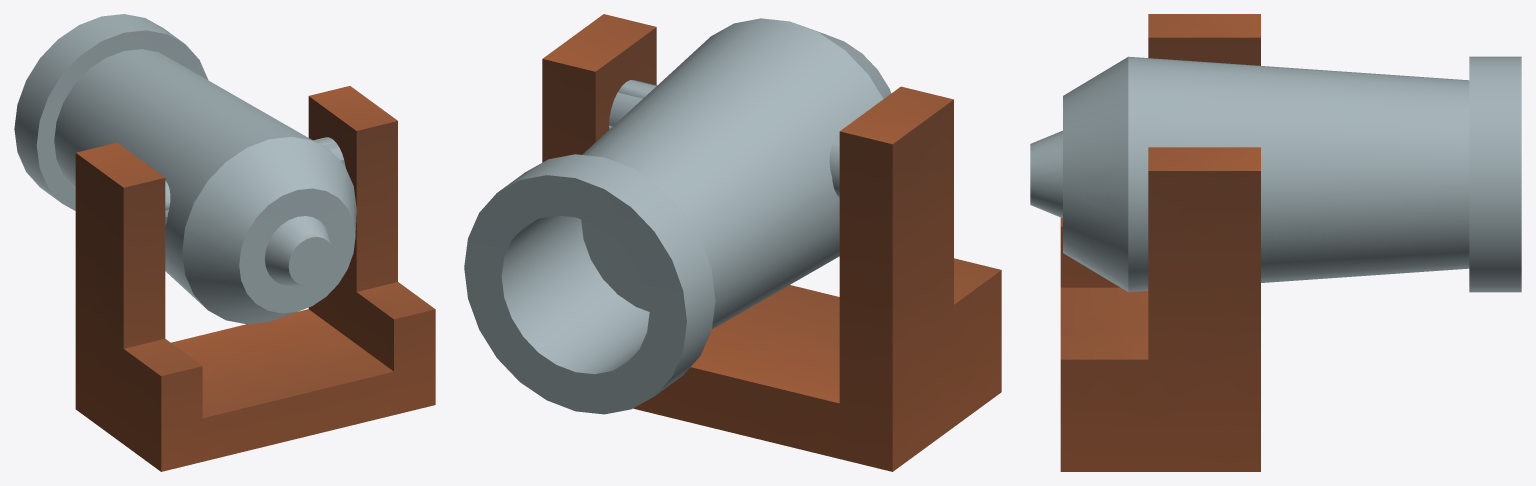
Rendered from cannon.glb.
3 renders of one model, left to right at view 1: azimuth 30°, elevation 25°; view 2: azimuth 150°, elevation 25°; view 3: azimuth 270°, elevation 25°, orthographic. The views are drawn at different scales.
Parts seen in each view (by area): view 1: cannon, barrelCannon; view 2: barrelCannon, cannon; view 3: barrelCannon, cannon.
Boxes of the visible parts, x1,y1,x2,y2 form: cannon: (75,86,435,471); barrelCannon: (14,14,356,324); barrelCannon: (464,18,891,414); cannon: (542,14,1001,471); barrelCannon: (1030,56,1521,292); cannon: (1060,14,1260,471).
Size of the model in its own units: 0.4345 by 0.4208 by 0.5748.
1 material, 1 textured.
